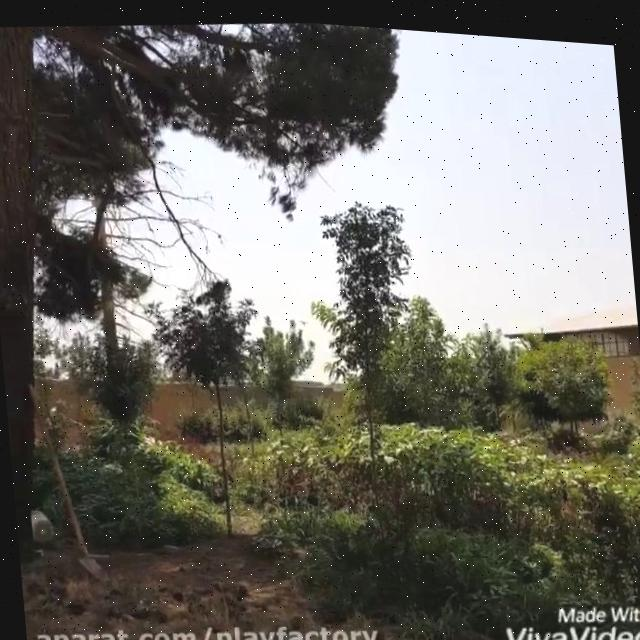drone: (294, 308, 312, 325)
